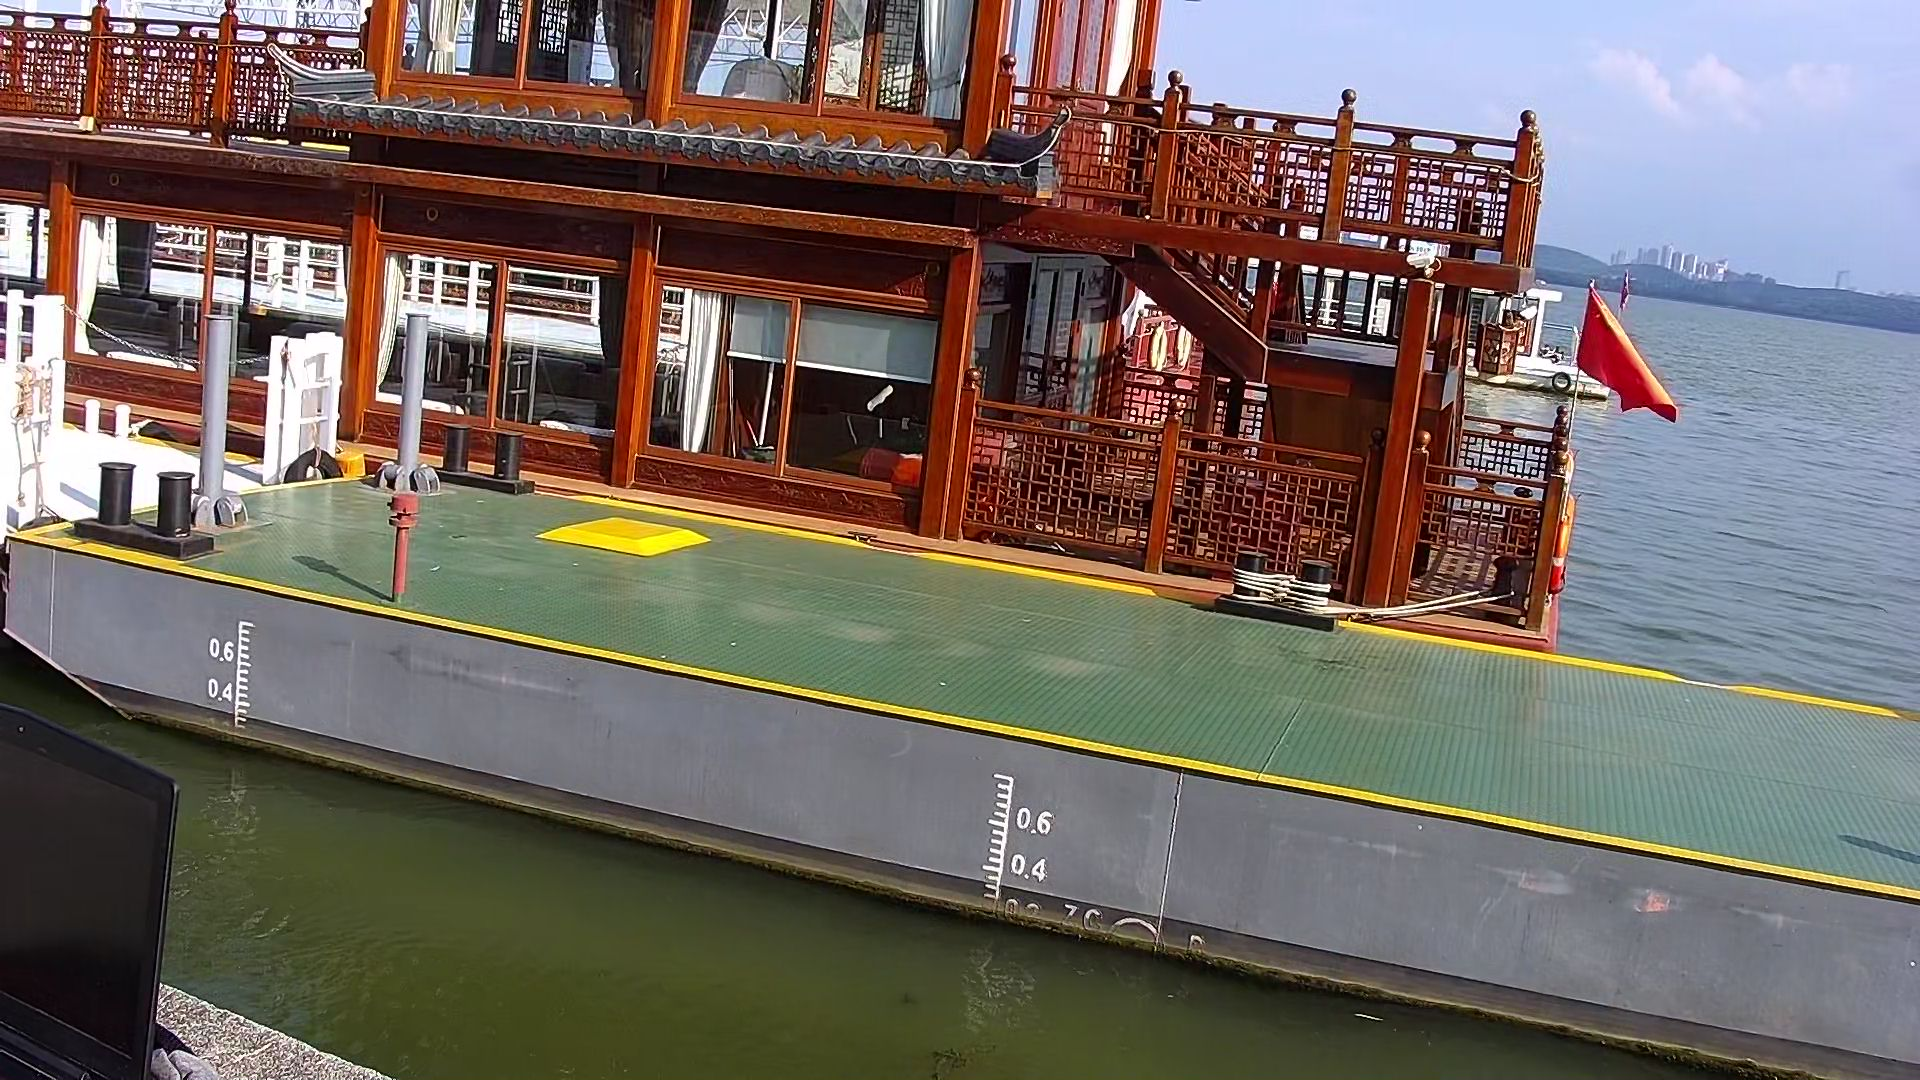harbor: (5, 462, 1909, 1080)
ship: (1, 3, 1571, 655)
